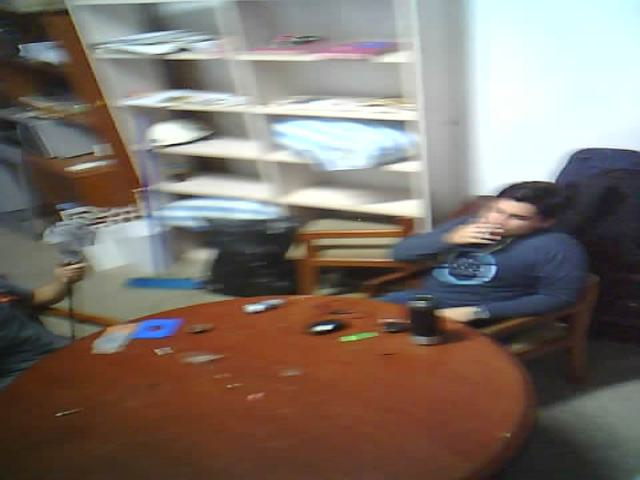person: (380, 134, 607, 369), (0, 204, 121, 378)
